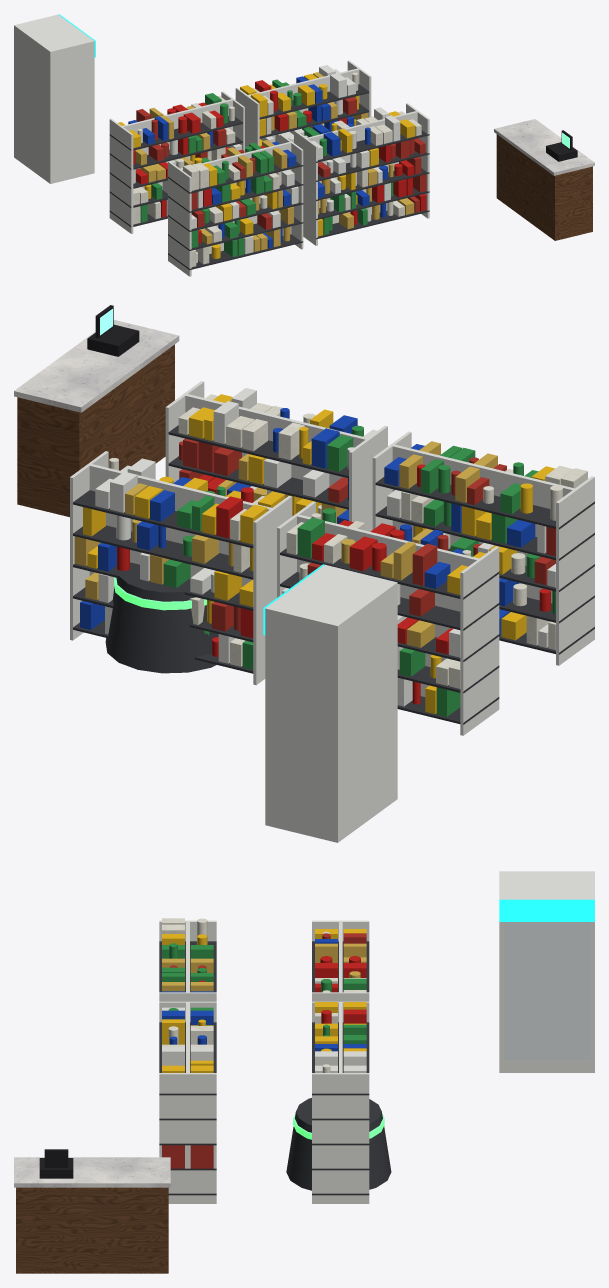
File: i_witch_cottage.gltf
3 renders of one model, top to bottom at view 1: azimuth 30°, elevation 25°; view 2: azimuth 150°, elevation 25°; view 3: azimuth 270°, elevation 25°, orthographic. The views are drawn at different scales.
Visible parts, largest first — view 1: I_witch_cottage; view 2: I_witch_cottage; view 3: I_witch_cottage.
Part boxes in pixels (<box>): I_witch_cottage: <box>14,14,594,276</box>; I_witch_cottage: <box>14,305,594,842</box>; I_witch_cottage: <box>14,871,594,1273</box>.
Bounding box in the file's own units: 5.69 × 2 × 6.08.
Materials: 17 (3 with a texture image).
